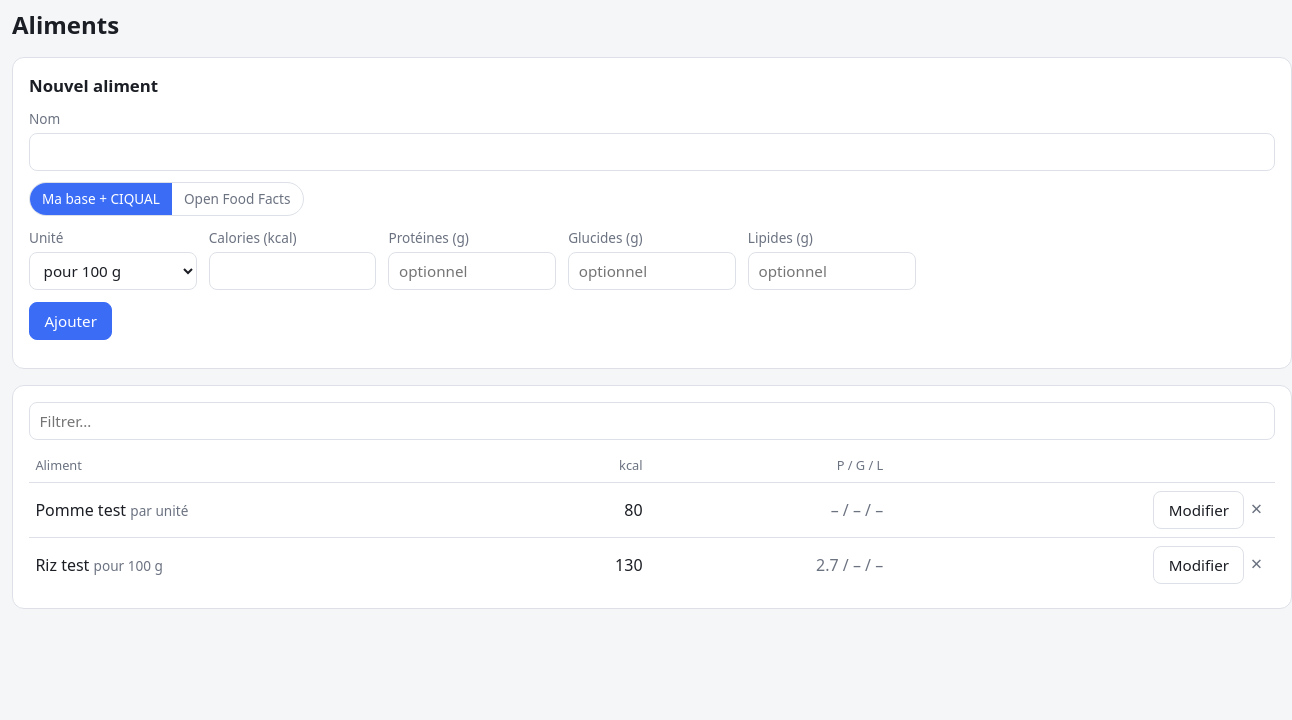
Foods › liste et filtre les aliments
Expected: the text "Riz test" is shown, [35,554,89,576]
Type "pomme" into the search field with placeholder "Filtrer…" at (652, 421), box [29,402,1275,440]
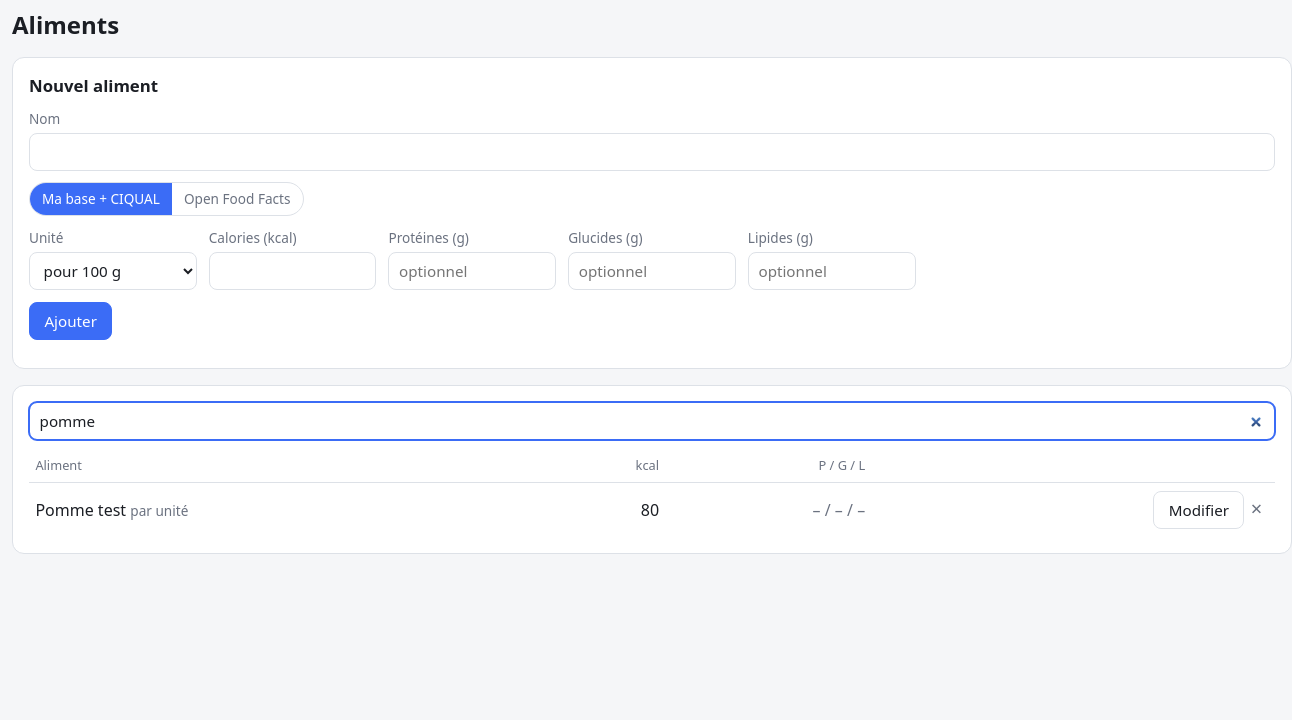
Expected: the text "Pomme test" is shown, [35,499,126,521]
Expected: the text "Riz test" is gone
